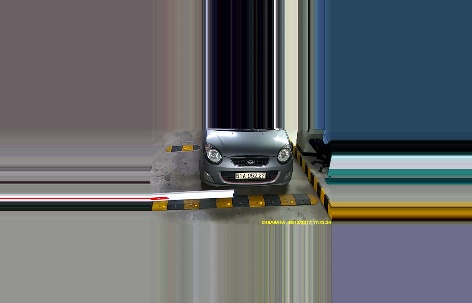plate: (235, 169, 267, 180)
